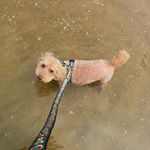puppy: (31, 46, 133, 90)
